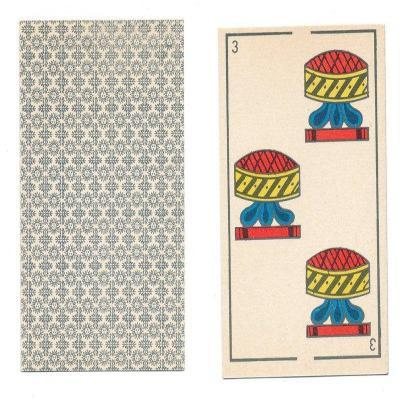graphics: (216, 23, 390, 381), (18, 17, 186, 375)
